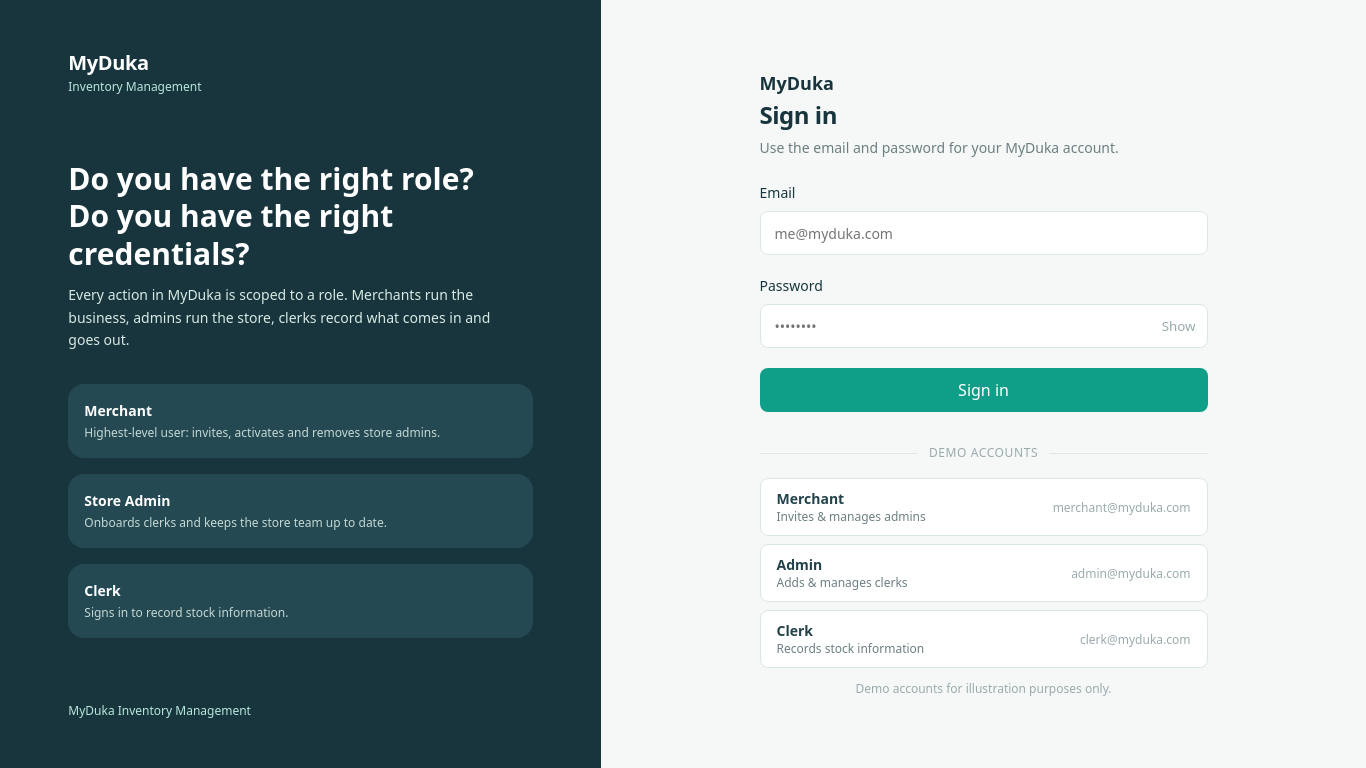
Login page › fills a demo credential when a demo user button is clicked
Click the button "Admin Adds & manages clerks admin@myduka.com": (799, 564) [760, 544, 1208, 602]
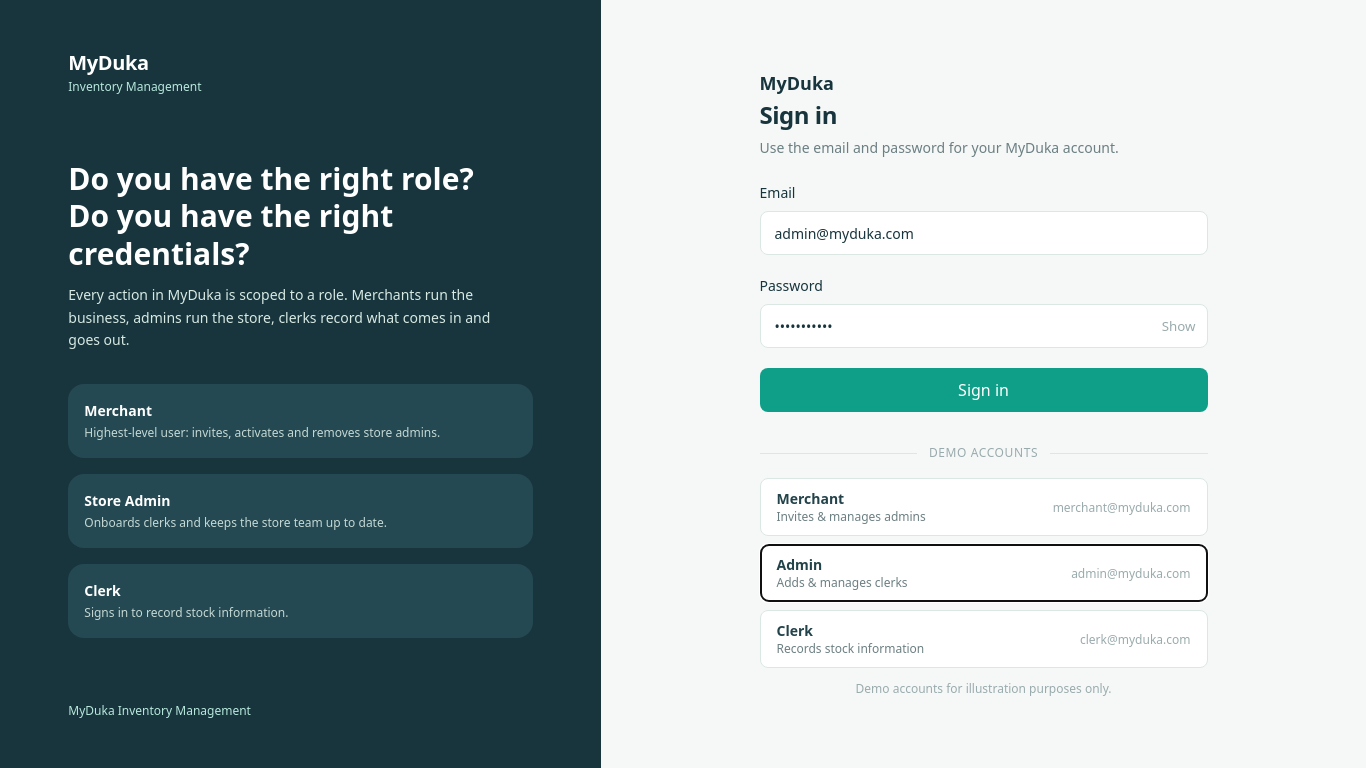
Check: the field labelled "Email" holds "admin@myduka.com", box [760, 211, 1208, 255]
Check: the password field labelled "Password" holds "password123", box [760, 304, 1208, 348]
